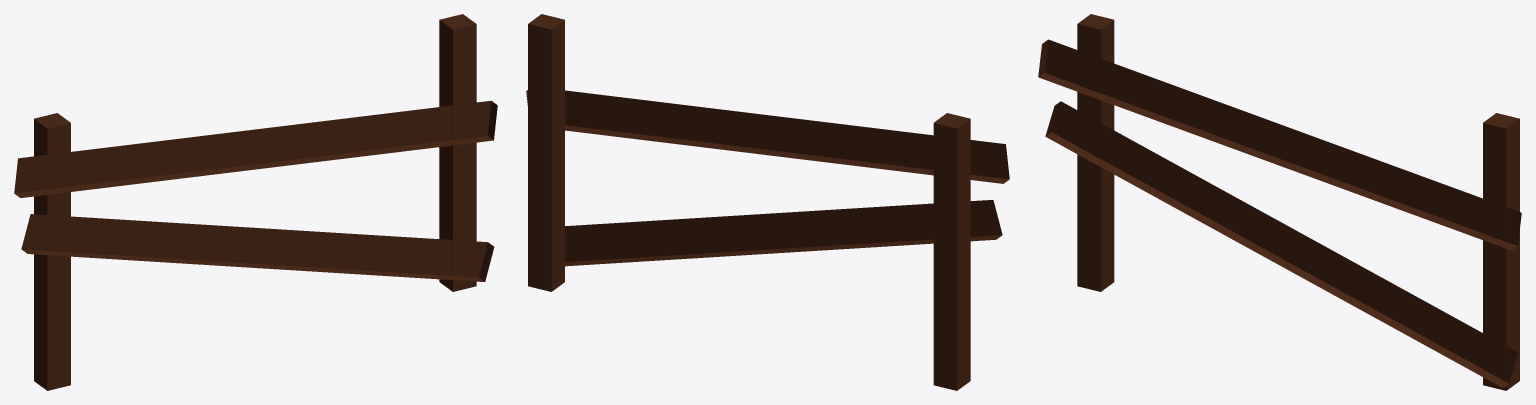
File: OneFence.fbx
3 views of the same model, side by side, from view 1: azimuth 30°, elevation 25°; view 2: azimuth 150°, elevation 25°; view 3: azimuth 330°, elevation 25° (orthographic).
Visible parts, largest first — view 1: OneFence; view 2: OneFence; view 3: OneFence.
Boxes of the visible parts, x1=… form: OneFence: x1=14, y1=14, x2=497, y2=390; OneFence: x1=526, y1=14, x2=1009, y2=390; OneFence: x1=1038, y1=14, x2=1521, y2=390.
Bounding box in the file's own units: 232 × 122 × 16.55.
